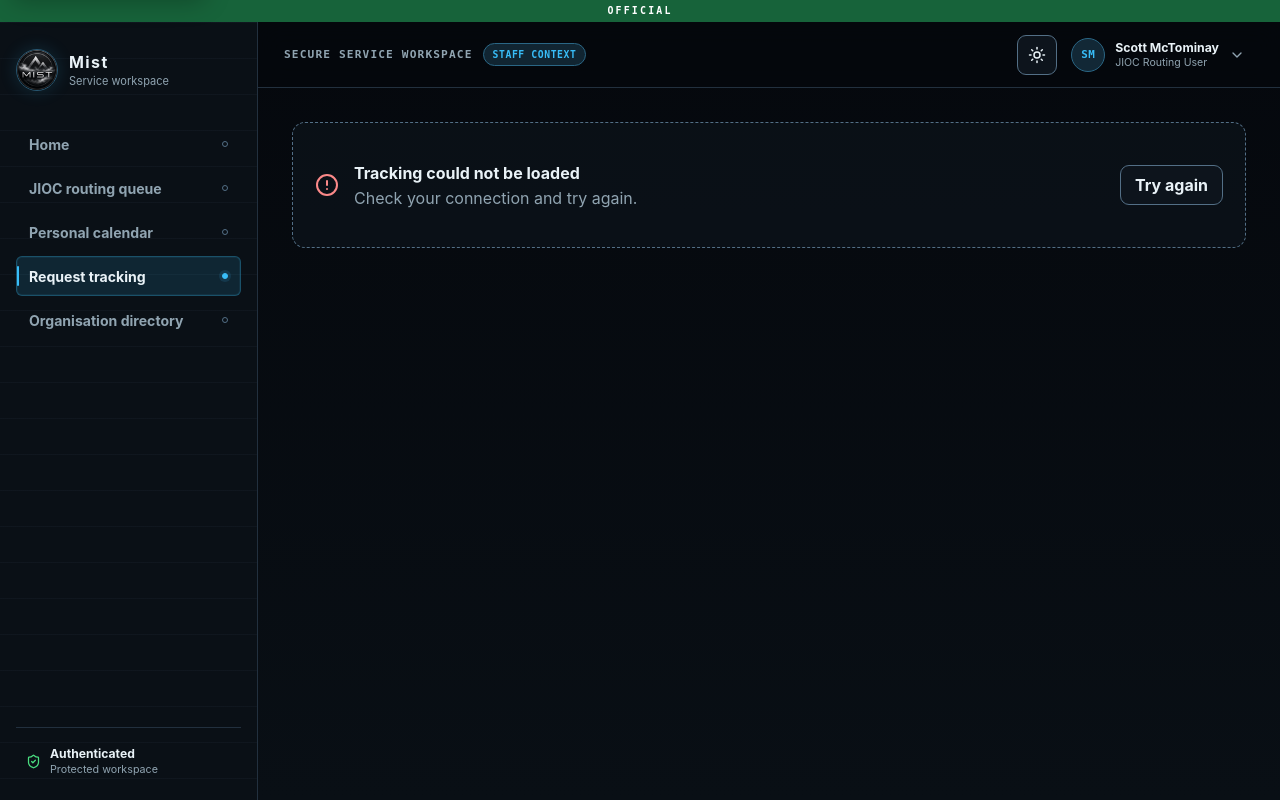
Test case: route-scoped request tracking › recovers from an error and renders an empty tracker
Expected: the heading "Tracking could not be loaded" is shown, [354,162,580,182]
What coordinates should you click on to do the following:
click the button "Try again"
I would click on:
 (1172, 185)
Its box is [1120,165,1223,205].
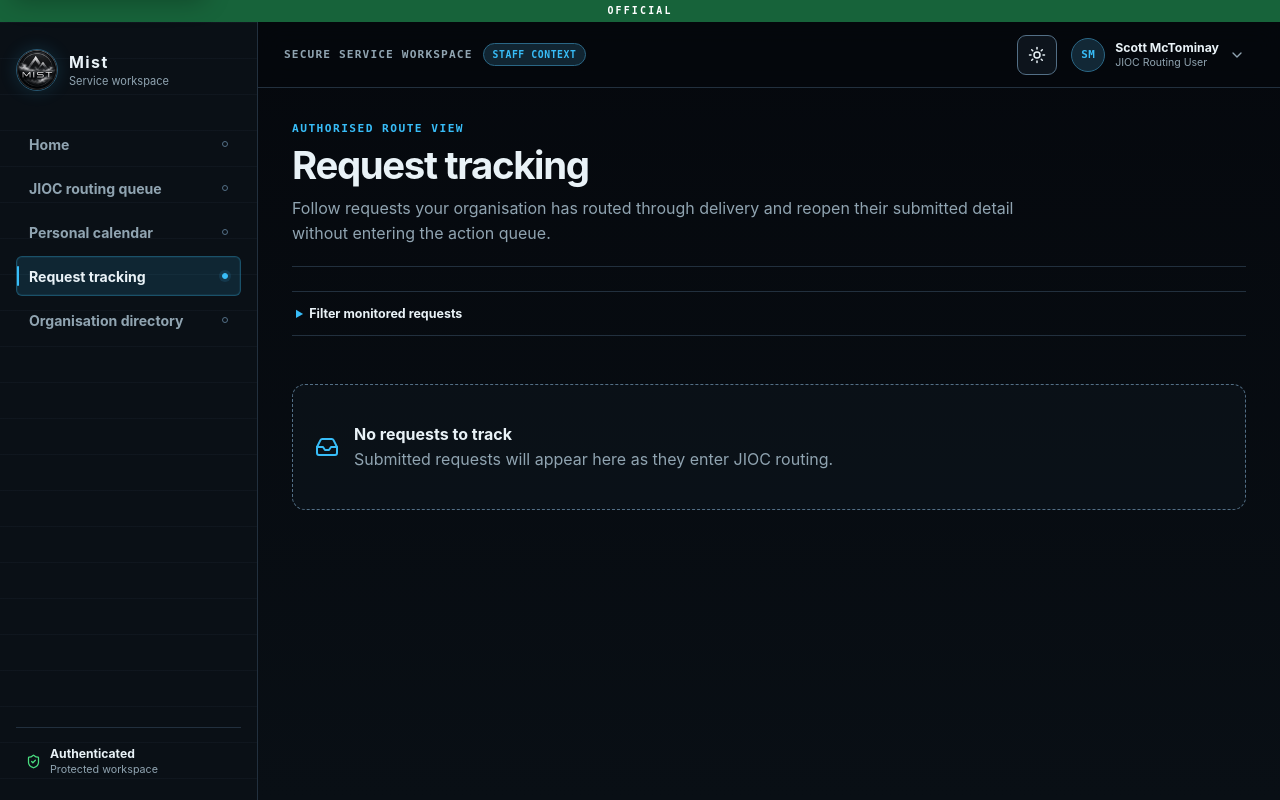
Expected: the heading "No requests to track" is shown, [354,424,512,444]
